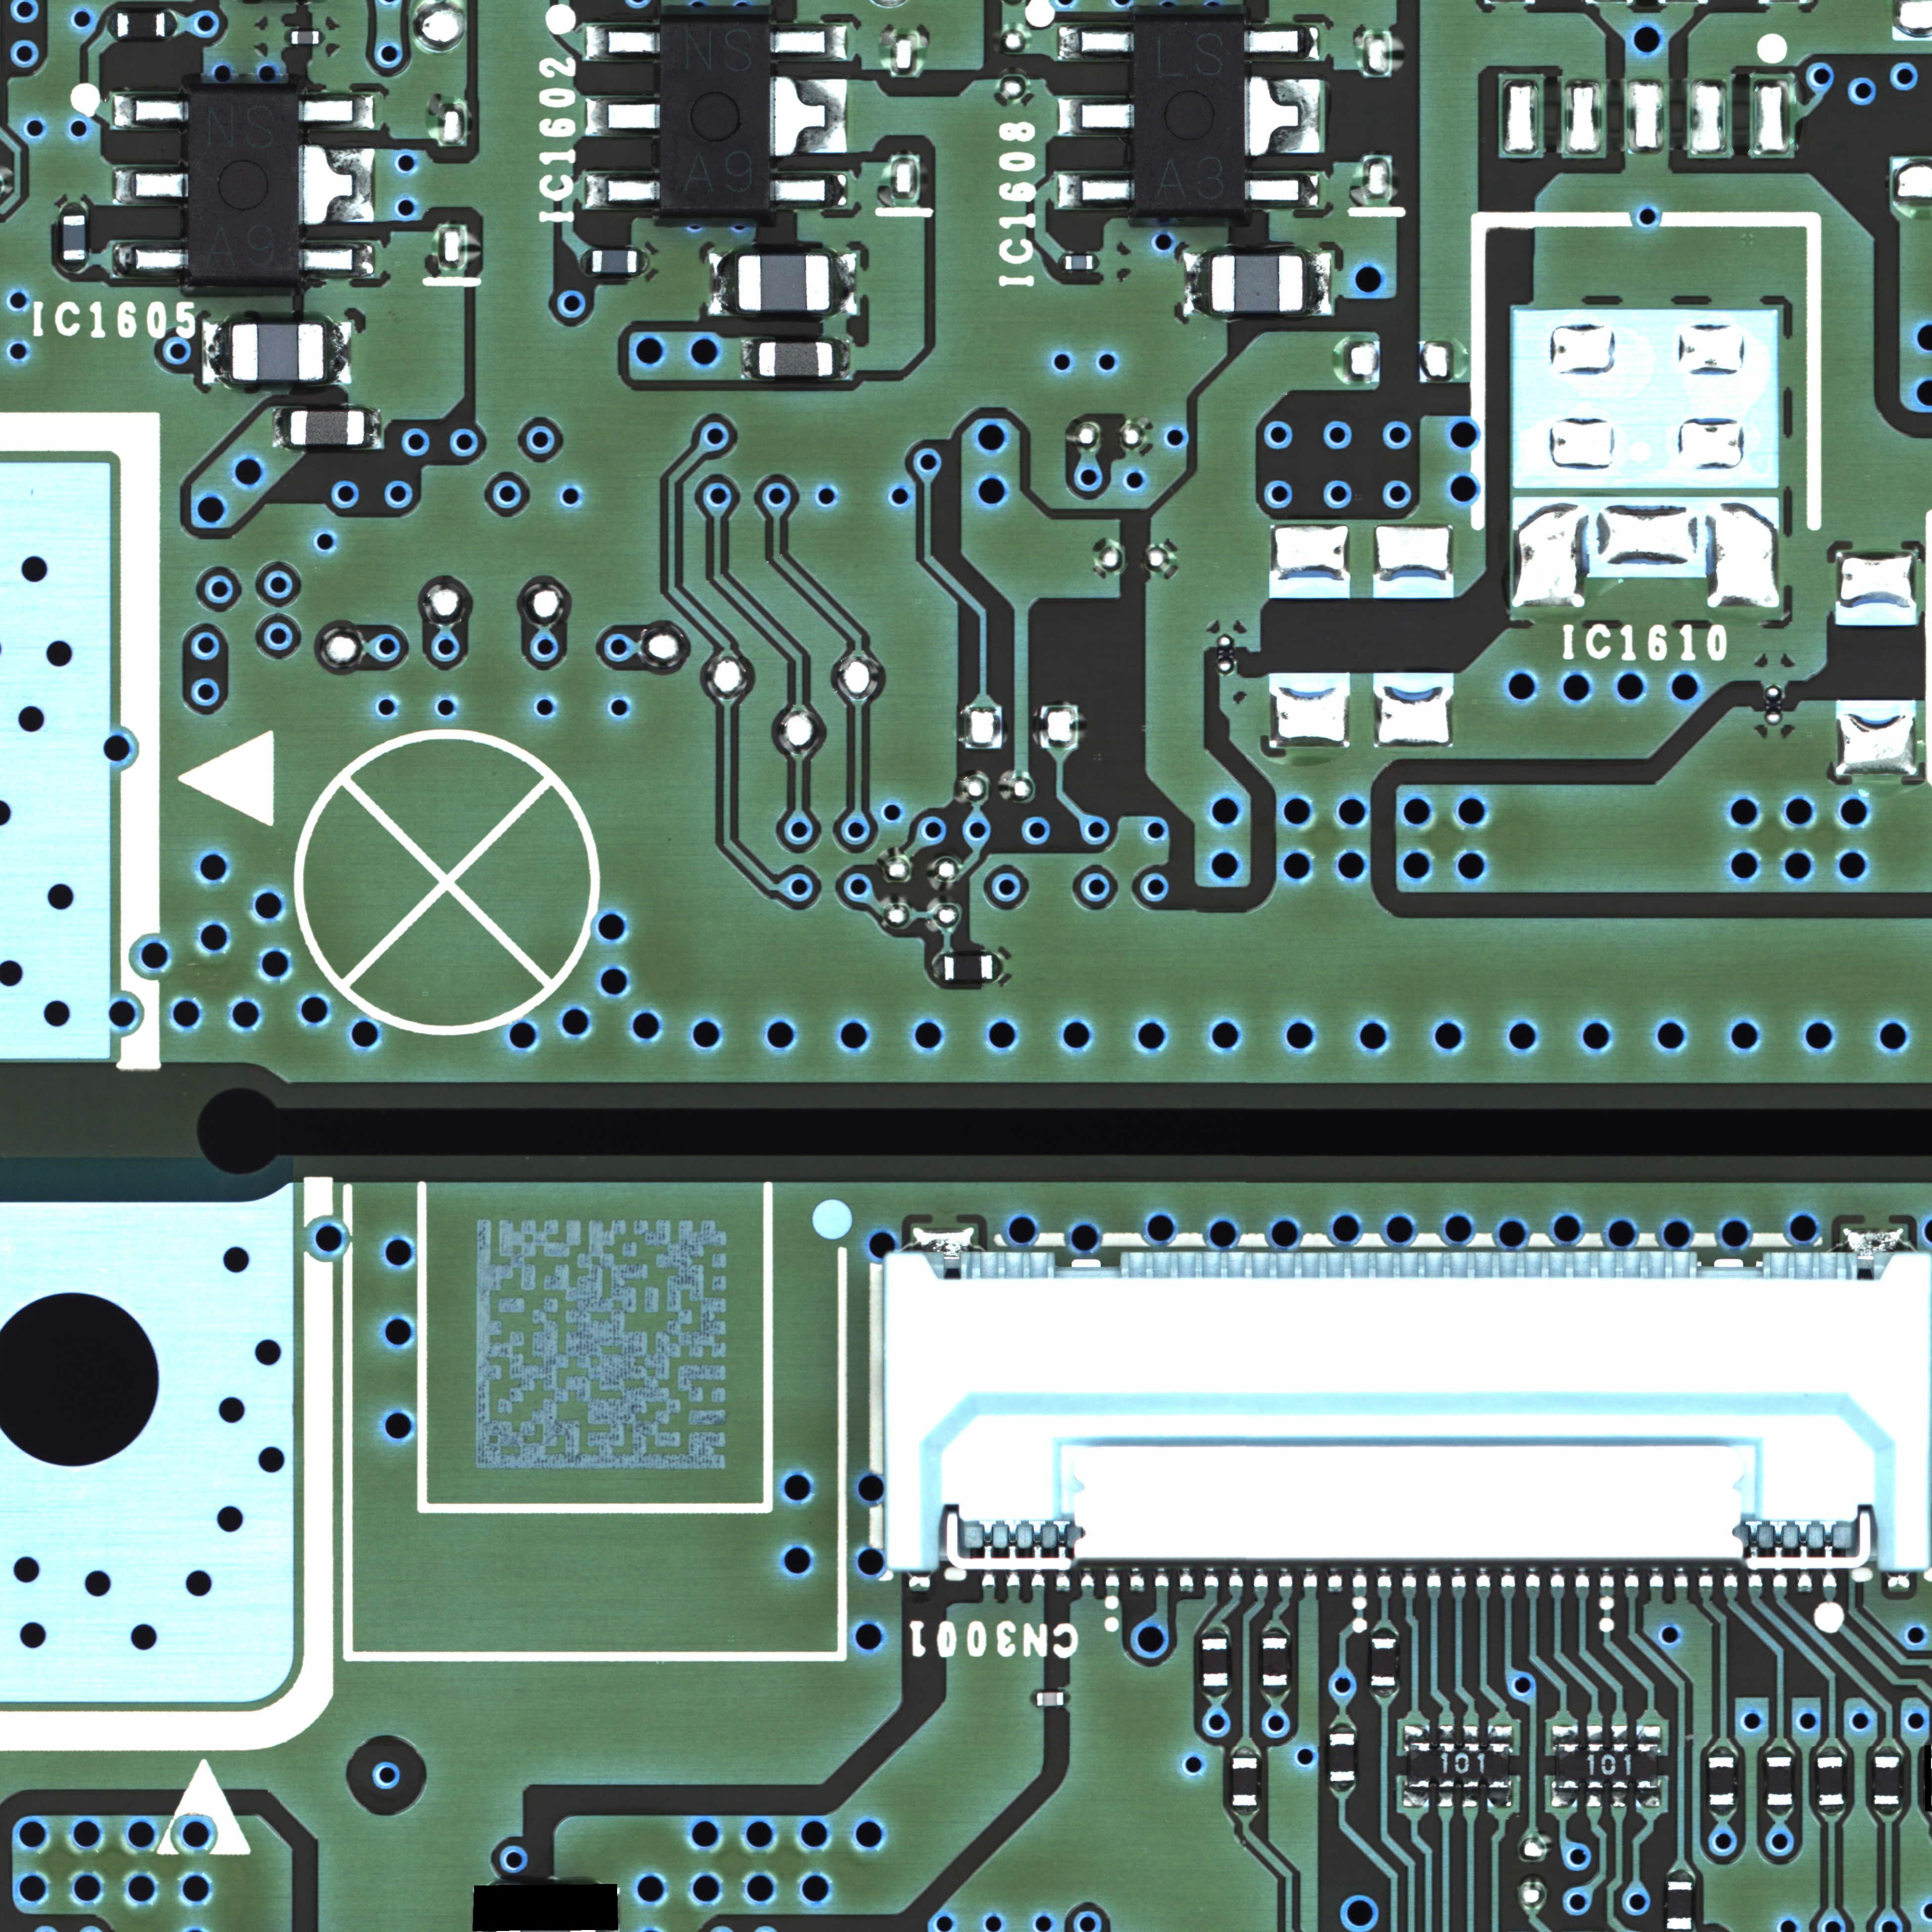Package: (1134, 16, 1244, 216), (662, 16, 770, 216), (189, 90, 297, 285), (738, 255, 830, 311), (232, 324, 324, 380), (1212, 255, 1304, 310), (1557, 1743, 1658, 1789), (1410, 1743, 1509, 1787), (288, 410, 366, 446), (757, 343, 833, 377), (1817, 1757, 1845, 1805), (1231, 1757, 1258, 1806), (1261, 1637, 1288, 1686), (1707, 1757, 1734, 1805), (1329, 1734, 1355, 1782), (1201, 1638, 1228, 1686), (1766, 1757, 1792, 1805), (1371, 1638, 1398, 1686), (1874, 1757, 1900, 1805), (117, 12, 166, 37), (945, 955, 993, 980), (1668, 1882, 1691, 1930), (591, 249, 637, 272), (62, 216, 85, 260), (1065, 255, 1093, 269), (1037, 1691, 1063, 1706), (292, 32, 318, 44)
Solder: (297, 143, 377, 226), (770, 76, 847, 157), (1244, 74, 1320, 157), (1056, 97, 1134, 138), (582, 97, 662, 136), (111, 166, 189, 205), (111, 241, 189, 280), (584, 23, 662, 62), (299, 92, 375, 131), (299, 241, 375, 280), (1244, 23, 1320, 62), (1056, 23, 1134, 60), (770, 25, 847, 62), (1244, 172, 1320, 209), (770, 173, 847, 209), (584, 173, 662, 209), (113, 94, 189, 129), (1058, 173, 1134, 209), (202, 320, 232, 384), (709, 253, 738, 315), (830, 253, 858, 315), (324, 322, 352, 384), (1304, 253, 1332, 313), (1184, 253, 1210, 317), (740, 338, 757, 380), (833, 338, 851, 379), (366, 409, 382, 449), (272, 409, 288, 448), (1401, 1789, 1431, 1808), (1550, 1789, 1578, 1808), (1486, 1789, 1513, 1808), (1635, 1725, 1663, 1743), (1635, 1789, 1661, 1806), (1552, 1725, 1578, 1743), (1403, 1725, 1430, 1741), (1486, 1725, 1513, 1741), (1435, 1789, 1456, 1808), (60, 260, 88, 274), (1583, 1789, 1603, 1808), (1764, 1744, 1794, 1757), (1200, 1686, 1230, 1698), (166, 11, 179, 39), (1707, 1805, 1736, 1817), (1874, 1805, 1902, 1817), (1261, 1686, 1290, 1698), (1201, 1626, 1230, 1638), (1371, 1686, 1399, 1698), (637, 248, 649, 276), (931, 954, 943, 982), (1610, 1789, 1628, 1808), (1585, 1725, 1605, 1743), (1610, 1725, 1629, 1743), (1437, 1725, 1456, 1743), (1461, 1725, 1481, 1743), (1461, 1789, 1479, 1808), (579, 248, 591, 274), (60, 202, 87, 214), (1766, 1806, 1792, 1819), (1329, 1782, 1355, 1794), (1815, 1806, 1845, 1817), (1668, 1870, 1693, 1882), (993, 954, 1003, 982), (1707, 1746, 1736, 1757), (1817, 1746, 1845, 1757), (1874, 1744, 1902, 1755), (1231, 1806, 1260, 1817), (1371, 1626, 1398, 1637), (1233, 1746, 1258, 1757), (1329, 1723, 1355, 1732), (108, 12, 117, 37), (1263, 1628, 1288, 1637), (1028, 1688, 1037, 1709), (1056, 253, 1065, 271), (283, 28, 290, 46), (1093, 253, 1100, 271), (320, 28, 326, 46), (1065, 1690, 1070, 1707)
